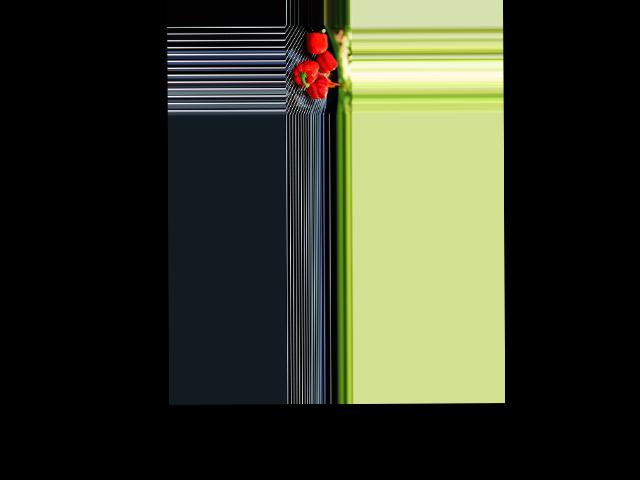bell_pepper: (307, 74, 329, 100)
